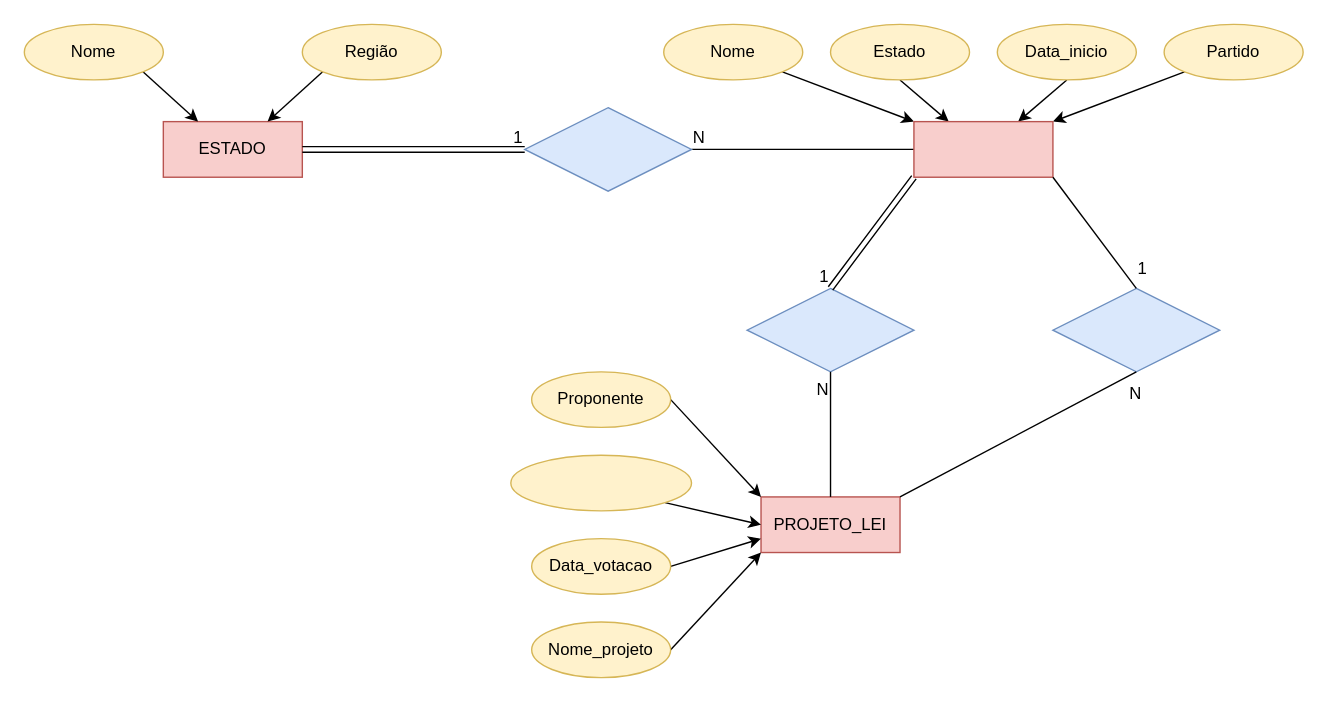
Some shapes in this 1327 by 702 pixel diagram are drawn without their labels. Each missing label, with the centre of its shape:
DEPUTADO: [983,148]
Passou_ou_falhou: [600,482]
Propôs: [830,329]
Tem: [607,148]
Votou: [1136,329]
